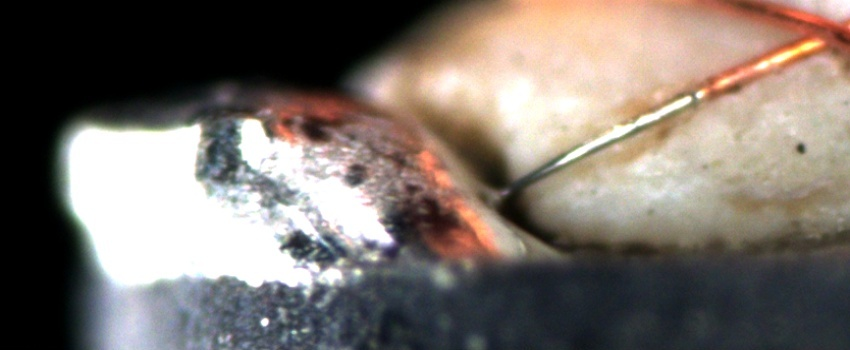CL: (777, 7, 847, 59)
TS: (497, 90, 700, 198)
TTCW: (504, 61, 778, 201)
